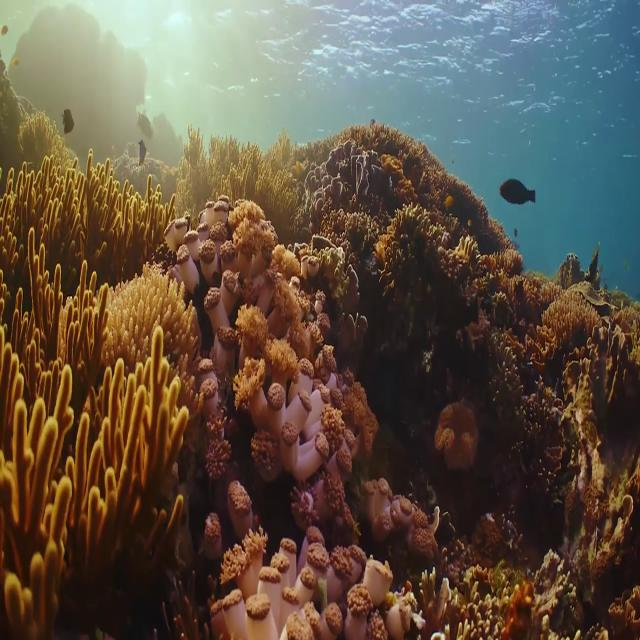fish: (494, 168, 542, 210), (60, 101, 80, 139)
